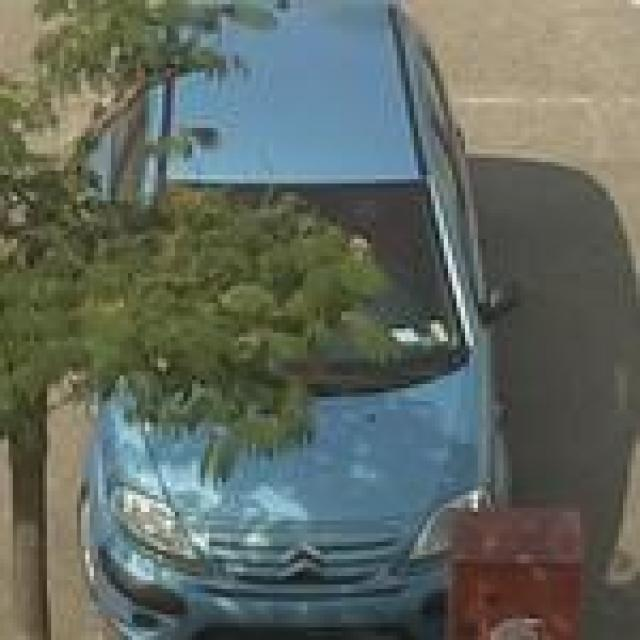cars-sUYr: (51, 4, 563, 640)
